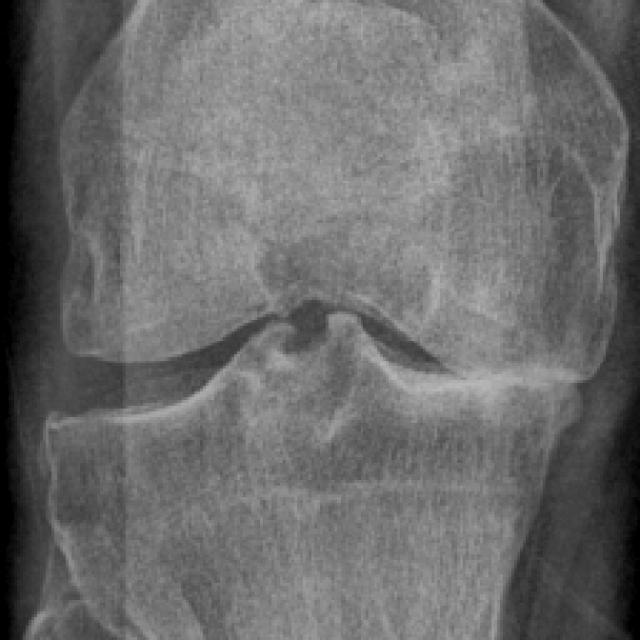femur: (58, 0, 631, 385)
tibia: (39, 311, 583, 640)
